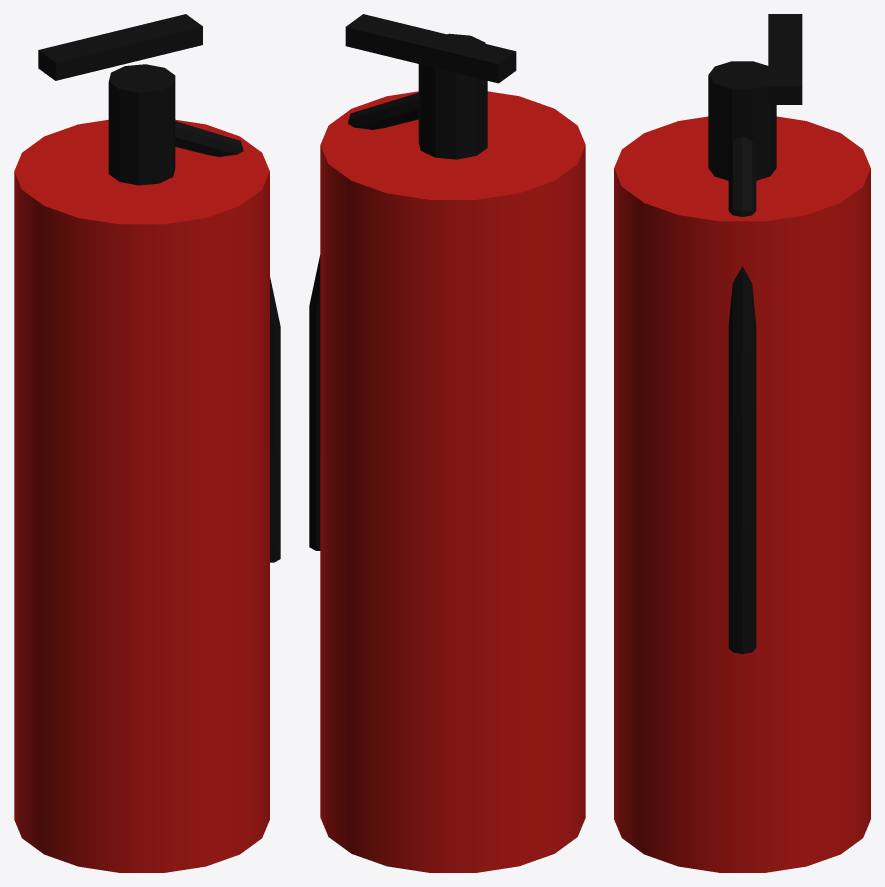
The model's file is services.device.extinguisher.glb.
3 renders of one model, left to right at view 1: azimuth 30°, elevation 25°; view 2: azimuth 150°, elevation 25°; view 3: azimuth 270°, elevation 25°, orthographic. The views are drawn at different scales.
Visible parts, largest first — view 1: main__plastic_red, main__plastic_black; view 2: main__plastic_red, main__plastic_black; view 3: main__plastic_red, main__plastic_black.
Boxes of the visible parts, x1,y1,x2,y2 form: main__plastic_red: (14, 119, 269, 872); main__plastic_black: (38, 14, 280, 562); main__plastic_red: (320, 91, 585, 872); main__plastic_black: (309, 14, 516, 550); main__plastic_red: (614, 116, 870, 872); main__plastic_black: (708, 14, 802, 653).
Size of the model in its own units: 0.1669 by 0.496 by 0.15.
